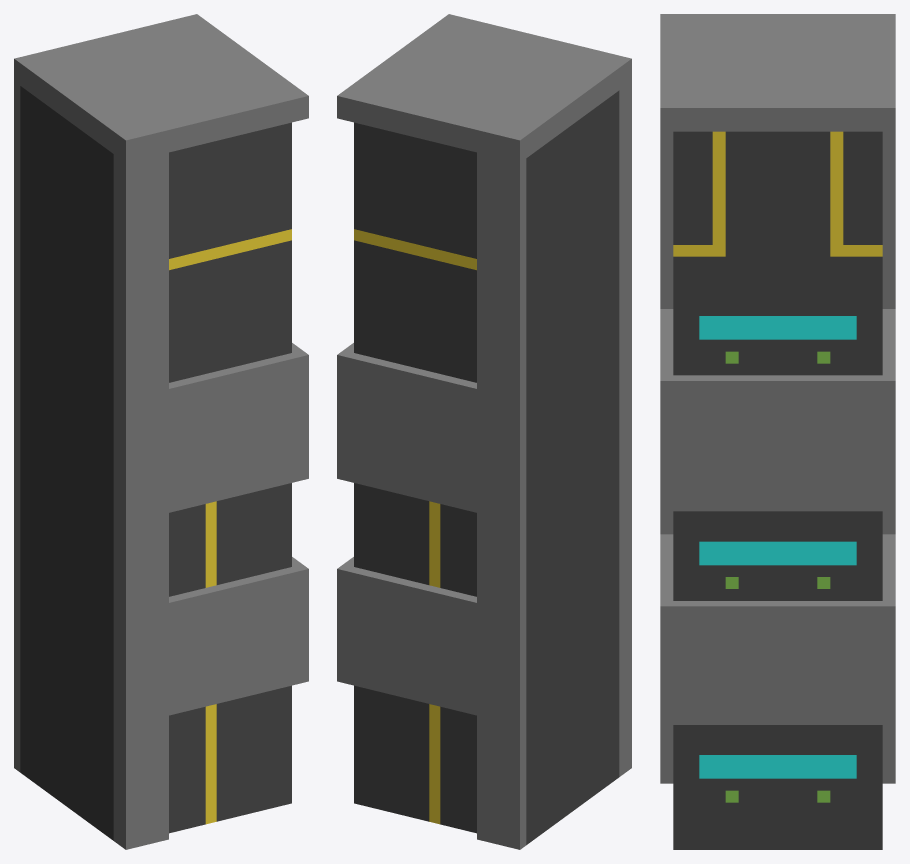
Rendered from Launch Bay-1.obj.
The picture shows the model from 3 angles, left to right: view 1: azimuth 30°, elevation 25°; view 2: azimuth 150°, elevation 25°; view 3: azimuth 270°, elevation 25°; orthographic projection. The views are drawn at different scales.
Visible parts, largest first — view 1: Launch Bay-1; view 2: Launch Bay-1; view 3: Launch Bay-1.
Boxes of the visible parts, x1,y1,x2,y2 form: Launch Bay-1: (14, 14, 308, 849); Launch Bay-1: (337, 14, 631, 849); Launch Bay-1: (660, 14, 895, 849).
Size of the model in its own units: 17 by 63 by 18.
1 material, 1 textured.
